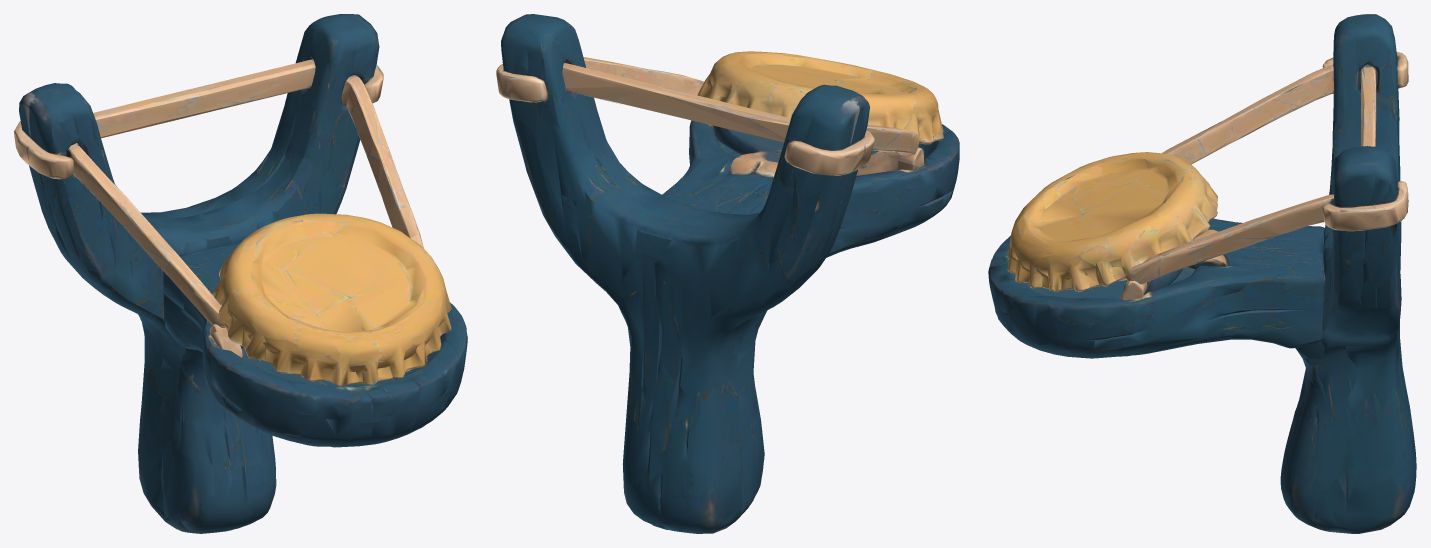
File: weapon-cap.glb
The picture shows the model from 3 angles, left to right: view 1: azimuth 30°, elevation 25°; view 2: azimuth 150°, elevation 25°; view 3: azimuth 270°, elevation 25°; orthographic projection. The views are drawn at different scales.
Parts seen in each view (by area): view 1: Mesh_0; view 2: Mesh_0; view 3: Mesh_0.
Part boxes in pixels (left/top/right/bottom): Mesh_0: left=14, top=14, right=467, bottom=533; Mesh_0: left=496, top=14, right=959, bottom=533; Mesh_0: left=988, top=14, right=1416, bottom=533.
Size of the model in its own units: 1.51 by 1.9 by 1.7.
1 material, 1 textured.
